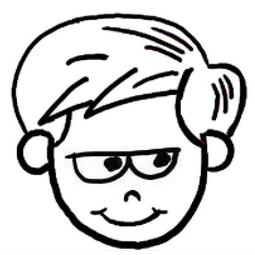ear: (13, 128, 53, 183), (201, 128, 237, 173)
eye: (73, 145, 129, 186), (130, 142, 184, 179)
mouth: (88, 205, 173, 228)
nose: (120, 186, 149, 203)
